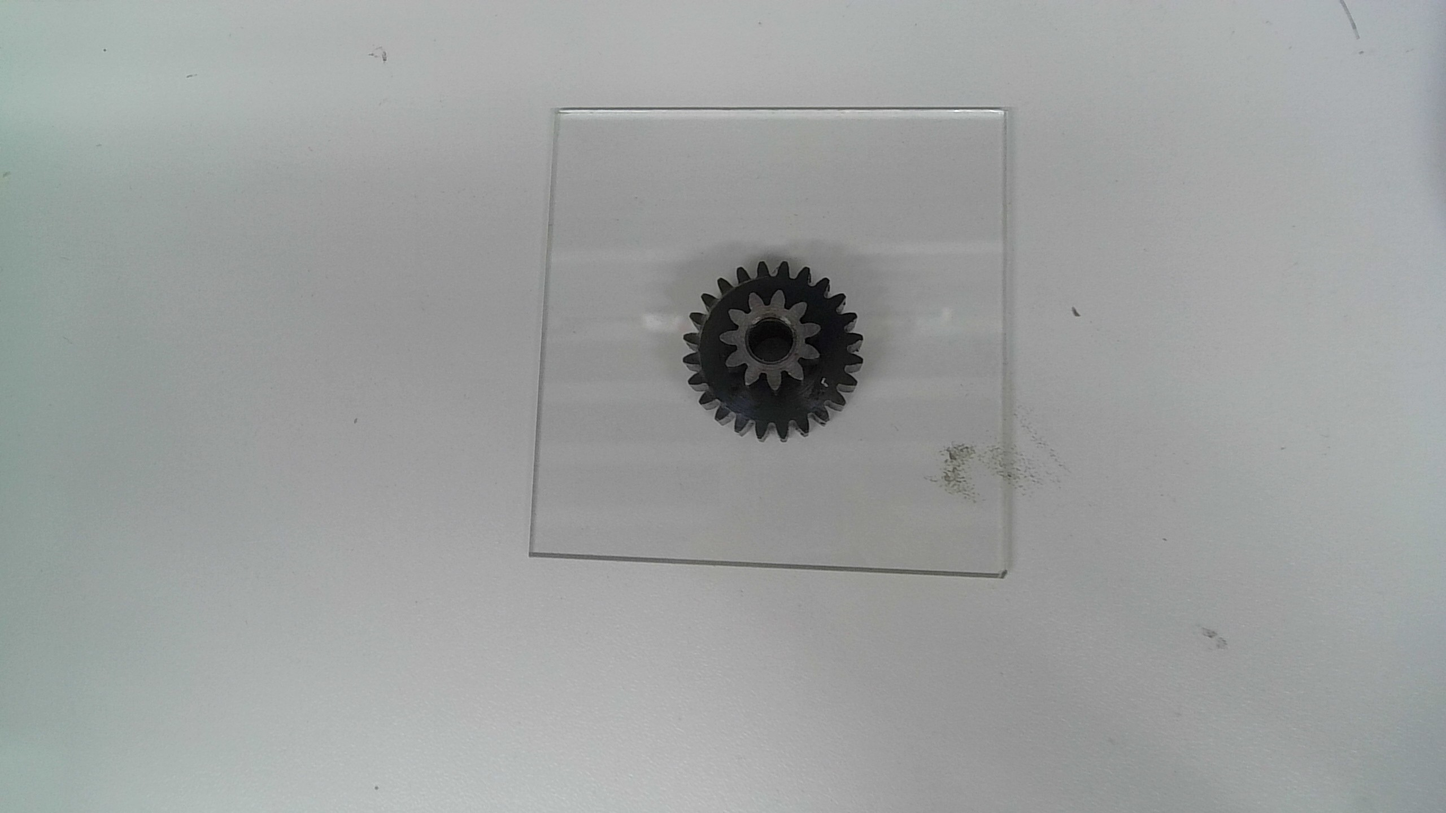gear: (682, 256, 864, 446)
